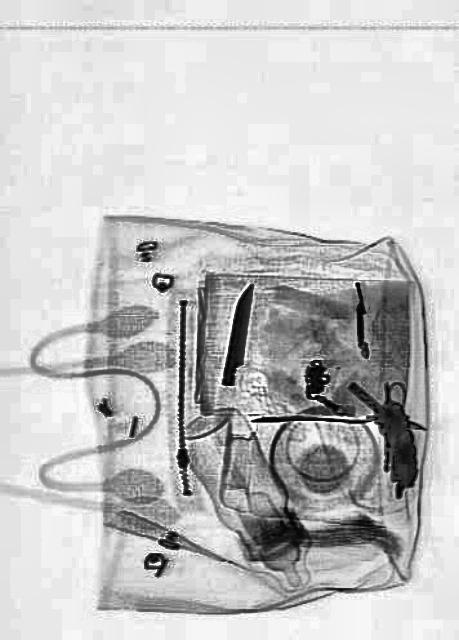Knife: (221, 279, 254, 386)
